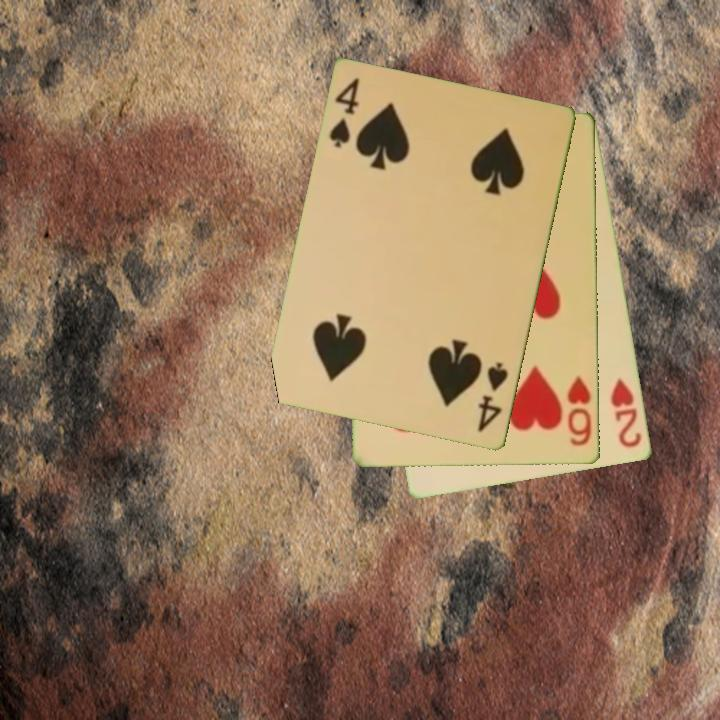2h: (607, 374, 645, 451)
4s: (326, 74, 363, 152), (475, 359, 512, 435)
6h: (564, 373, 595, 449)
